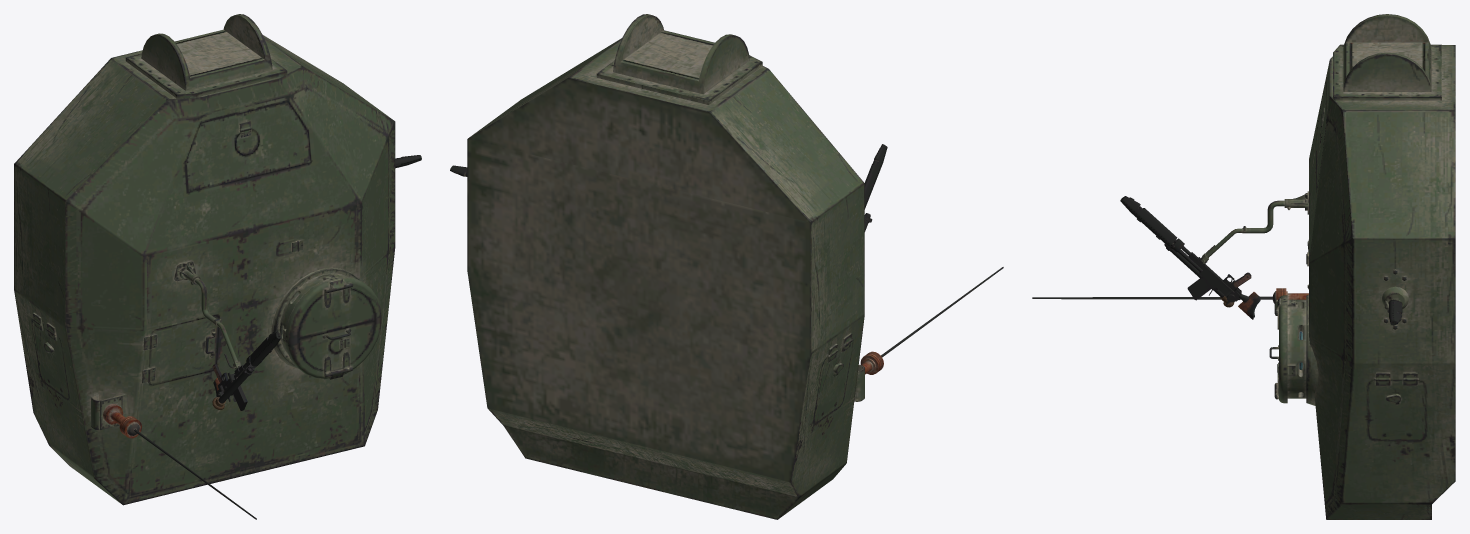
File: Turret_01.glb
3 renders of one model, left to right at view 1: azimuth 30°, elevation 25°; view 2: azimuth 150°, elevation 25°; view 3: azimuth 270°, elevation 25°, orthographic. The views are drawn at different scales.
Visible parts, largest first — view 1: set_0_group_0; view 2: set_0_group_0; view 3: set_0_group_0.
Boxes of the visible parts, x1=… form: set_0_group_0: x1=14, y1=14, x2=421, y2=519; set_0_group_0: x1=450, y1=14, x2=1003, y2=519; set_0_group_0: x1=1032, y1=14, x2=1455, y2=519.
Bounding box in the file's own units: 3 × 3.26 × 2.95.
1 material, 1 textured.
